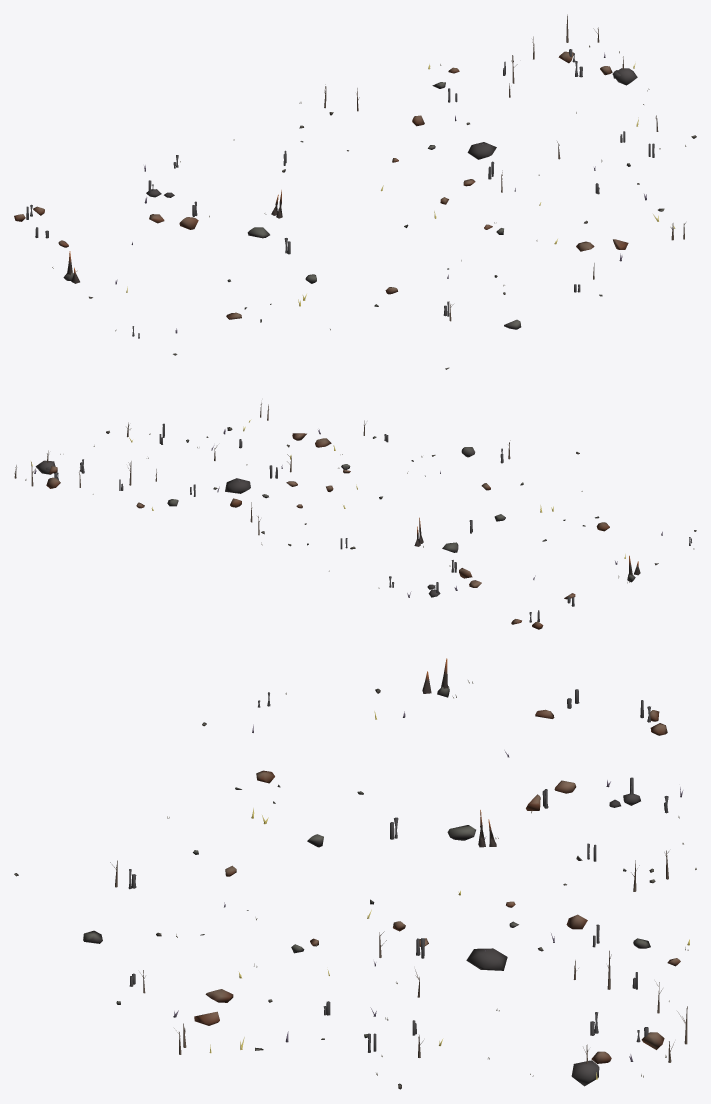
File: ash_land_scatter_c21_31_lod1.glb
3 views of the same model, one above another, from view 1: azimuth 30°, elevation 25°; view 2: azimuth 150°, elevation 25°; view 3: azimuth 270°, elevation 25° (orthographic). The views are drawn at different scales.
Visible parts, largest first — view 1: ash_land_scatter_c21_31_lod1; view 2: ash_land_scatter_c21_31_lod1; view 3: ash_land_scatter_c21_31_lod1.
Part boxes in pixels (left/top/right/bottom): ash_land_scatter_c21_31_lod1: left=14, top=14, right=696, bottom=369; ash_land_scatter_c21_31_lod1: left=14, top=402, right=696, bottom=629; ash_land_scatter_c21_31_lod1: left=14, top=658, right=696, bottom=1089.
Size of the model in its own units: 203 by 26.81 by 140.
